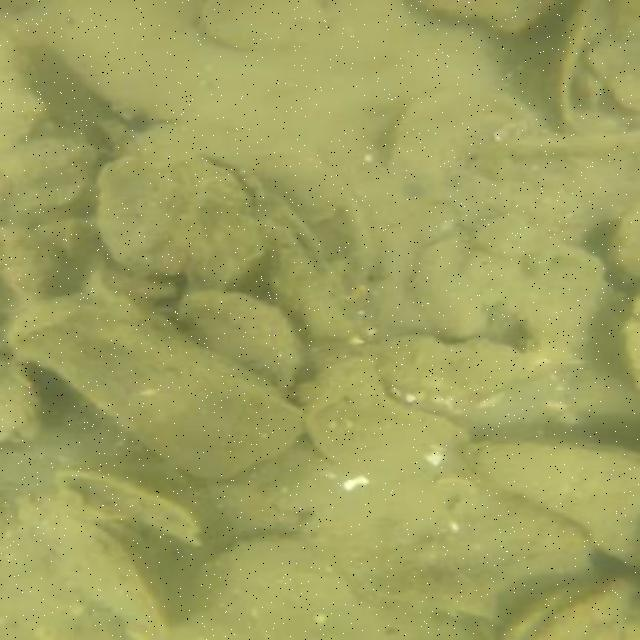Oyster-Closed: (12, 315, 306, 484), (464, 437, 639, 568), (245, 145, 381, 308), (99, 152, 268, 276), (304, 363, 466, 470), (371, 330, 585, 393), (181, 290, 305, 392), (550, 0, 640, 129), (1, 142, 98, 216), (1, 358, 45, 446), (614, 215, 640, 277), (577, 72, 606, 106)
Oyster-Open: (61, 491, 171, 638), (53, 464, 211, 548)
